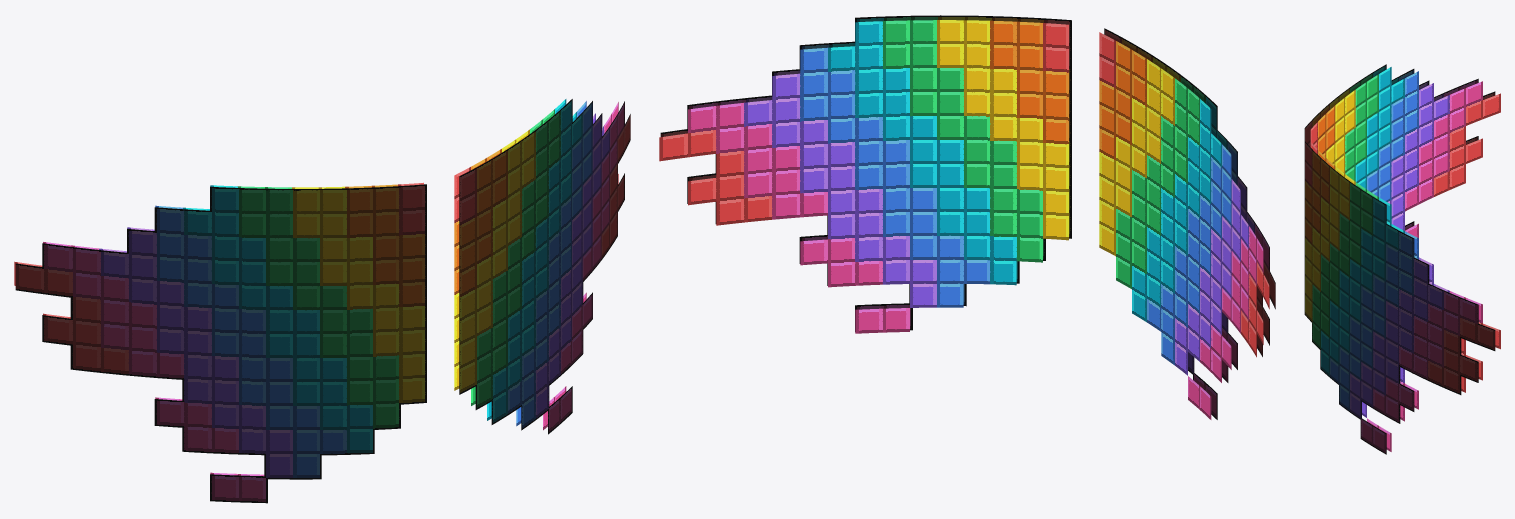
Rendered from pixel_prism_wings.glb.
The picture shows the model from 3 angles, left to right: view 1: azimuth 30°, elevation 25°; view 2: azimuth 150°, elevation 25°; view 3: azimuth 270°, elevation 25°; orthographic projection. The views are drawn at different scales.
Parts seen in each view (by area): view 1: Pixel Prism Wings Wing Right, Pixel Prism Wings Wing Left; view 2: Pixel Prism Wings Wing Left, Pixel Prism Wings Wing Right; view 3: Pixel Prism Wings Wing Left, Pixel Prism Wings Wing Right.
Part boxes in pixels (bbox=[...]): Pixel Prism Wings Wing Right: bbox=[14, 182, 426, 503]; Pixel Prism Wings Wing Left: bbox=[454, 99, 630, 434]; Pixel Prism Wings Wing Left: bbox=[659, 15, 1071, 333]; Pixel Prism Wings Wing Right: bbox=[1099, 28, 1275, 419]; Pixel Prism Wings Wing Left: bbox=[1304, 141, 1500, 454]; Pixel Prism Wings Wing Right: bbox=[1304, 64, 1500, 237].
Bounding box in the file's own units: 2.27 × 1.12 × 0.7902.
Materials: 2 (2 with a texture image).
